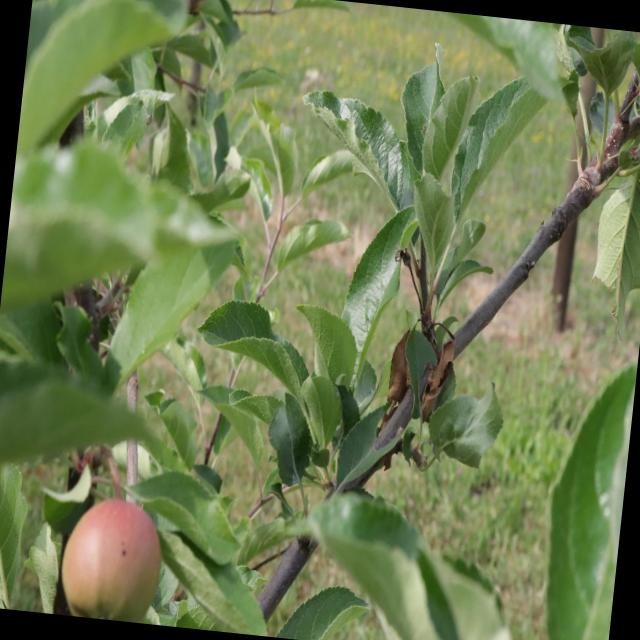-FireBlight-: (380, 318, 460, 416)
